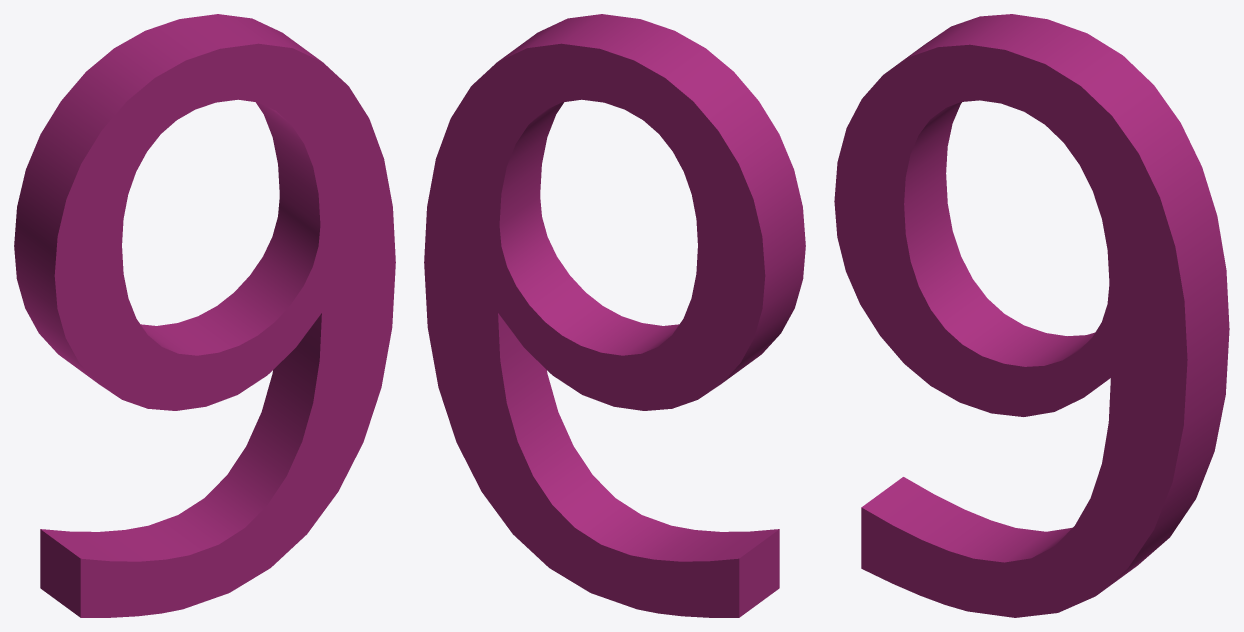
Rendered from dokuz.fbx.
3 views of the same model, side by side, from view 1: azimuth 30°, elevation 25°; view 2: azimuth 150°, elevation 25°; view 3: azimuth 330°, elevation 25° (orthographic). The views are drawn at different scales.
Parts seen in each view (by area): view 1: typeMesh1; view 2: typeMesh1; view 3: typeMesh1.
Boxes of the visible parts, x1,y1,x2,y2 form: typeMesh1: [14, 14, 395, 617]; typeMesh1: [424, 14, 805, 617]; typeMesh1: [834, 14, 1229, 617].
Size of the model in its own units: 6.94 by 10.72 by 1.43.
